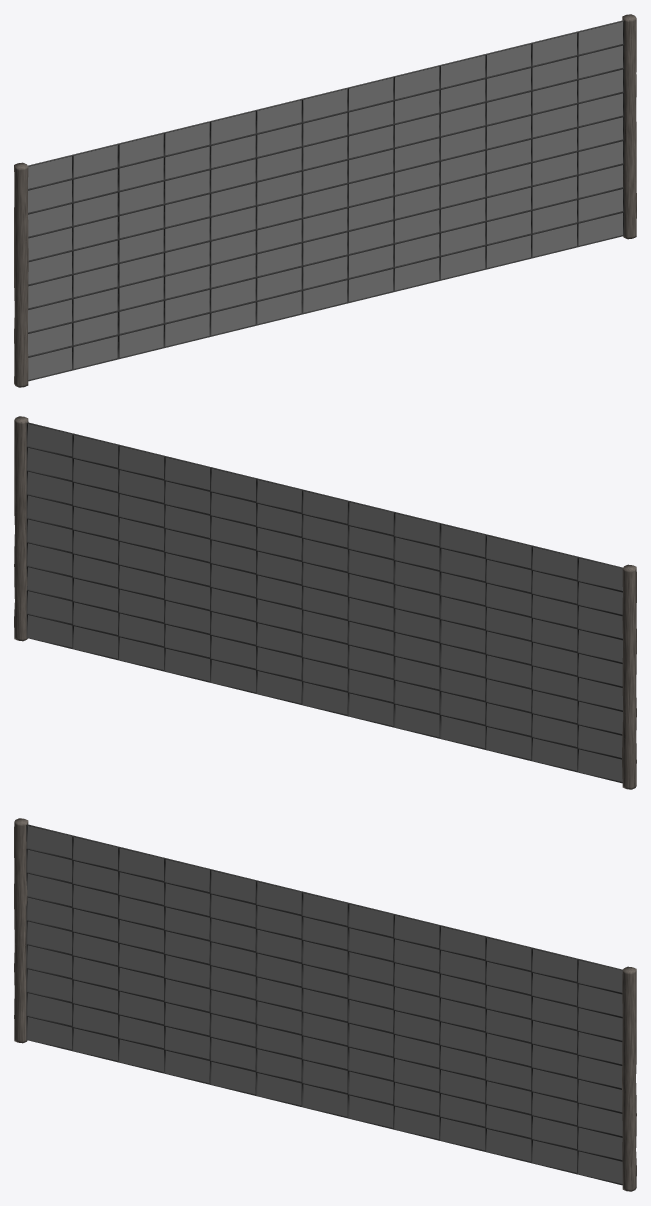
Rendered from Fence.glb.
The picture shows the model from 3 angles, top to bottom: view 1: azimuth 30°, elevation 25°; view 2: azimuth 150°, elevation 25°; view 3: azimuth 330°, elevation 25°; orthographic projection.
Parts seen in each view (by area): view 1: Cube.002, Cube.001; view 2: Cube.002, Cube.001; view 3: Cube.002, Cube.001.
Part boxes in pixels (x1,y1,x2,y2): Cube.002: (28,20,623,379); Cube.001: (14,14,636,387); Cube.002: (27,422,622,781); Cube.001: (14,416,636,789); Cube.002: (27,824,622,1183); Cube.001: (14,818,636,1191).
Bounding box in the file's own units: 7.28 × 2.45 × 0.1453.
2 materials, 1 textured.
